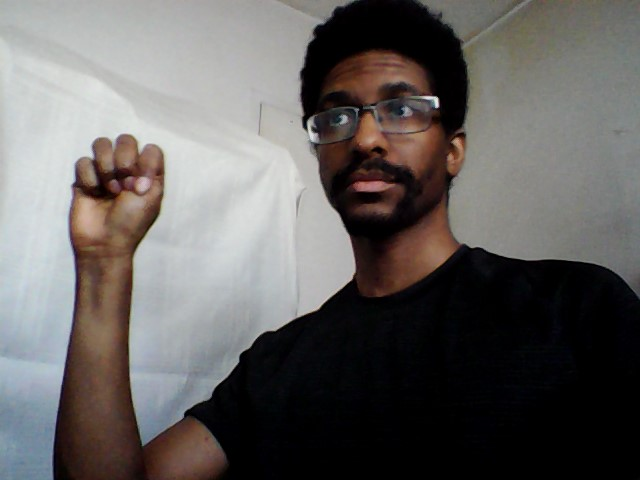m: (64, 132, 168, 253)
